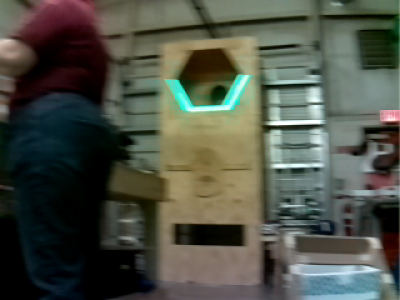target: (165, 74, 253, 112)
